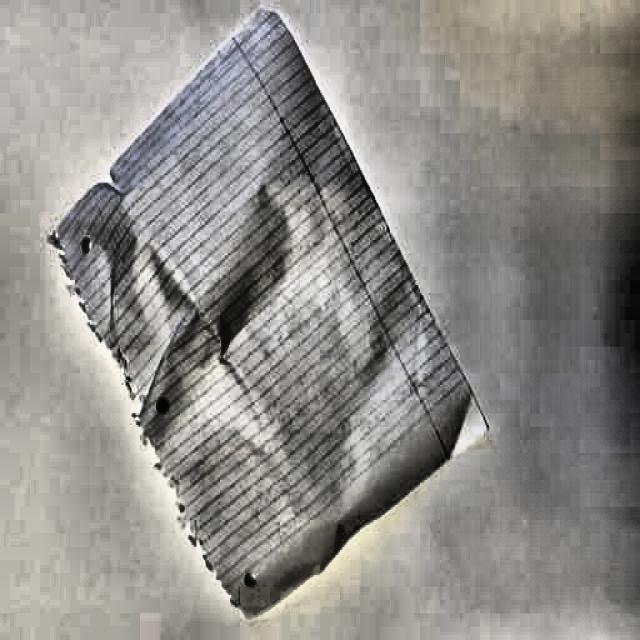paper: (47, 0, 498, 621)
